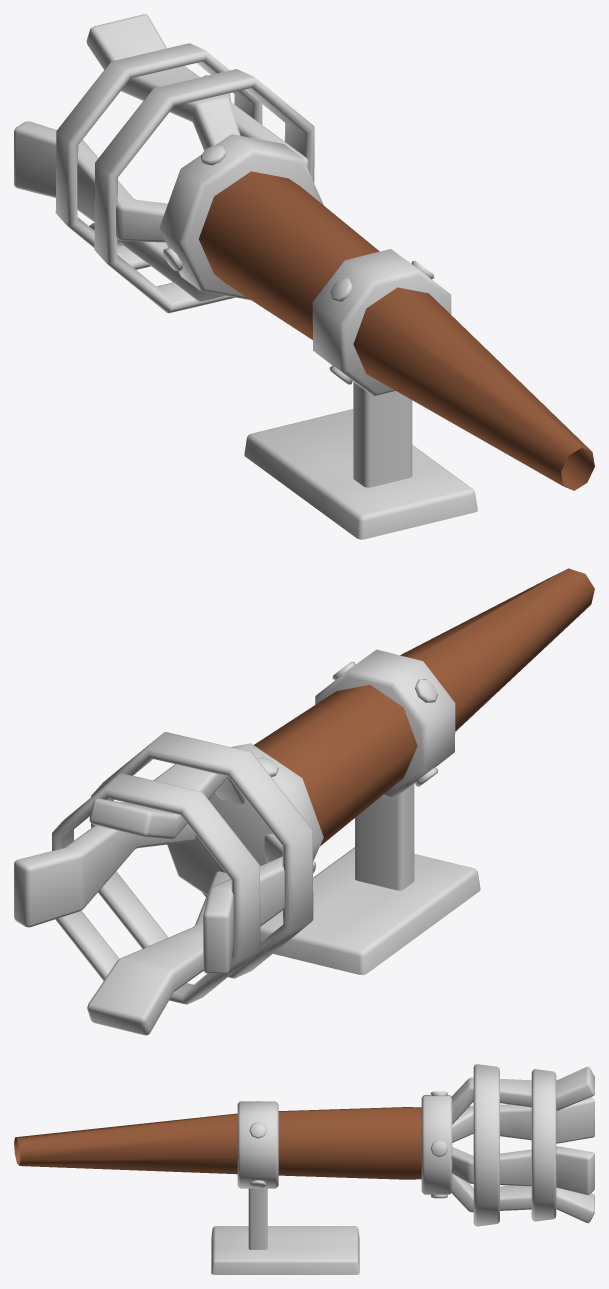
The model's file is Torch.fbx.
3 views of the same model, one above another, from view 1: azimuth 30°, elevation 25°; view 2: azimuth 150°, elevation 25°; view 3: azimuth 270°, elevation 25° (orthographic). The views are drawn at different scales.
Visible parts, largest first — view 1: SM_irontorch_003; view 2: SM_irontorch_003; view 3: SM_irontorch_003.
Boxes of the visible parts, x1,y1,x2,y2 form: SM_irontorch_003: (14, 14, 594, 539); SM_irontorch_003: (14, 568, 594, 1035); SM_irontorch_003: (14, 1064, 594, 1274).
Size of the model in its own units: 0.2879 by 0.3724 by 1.08.
